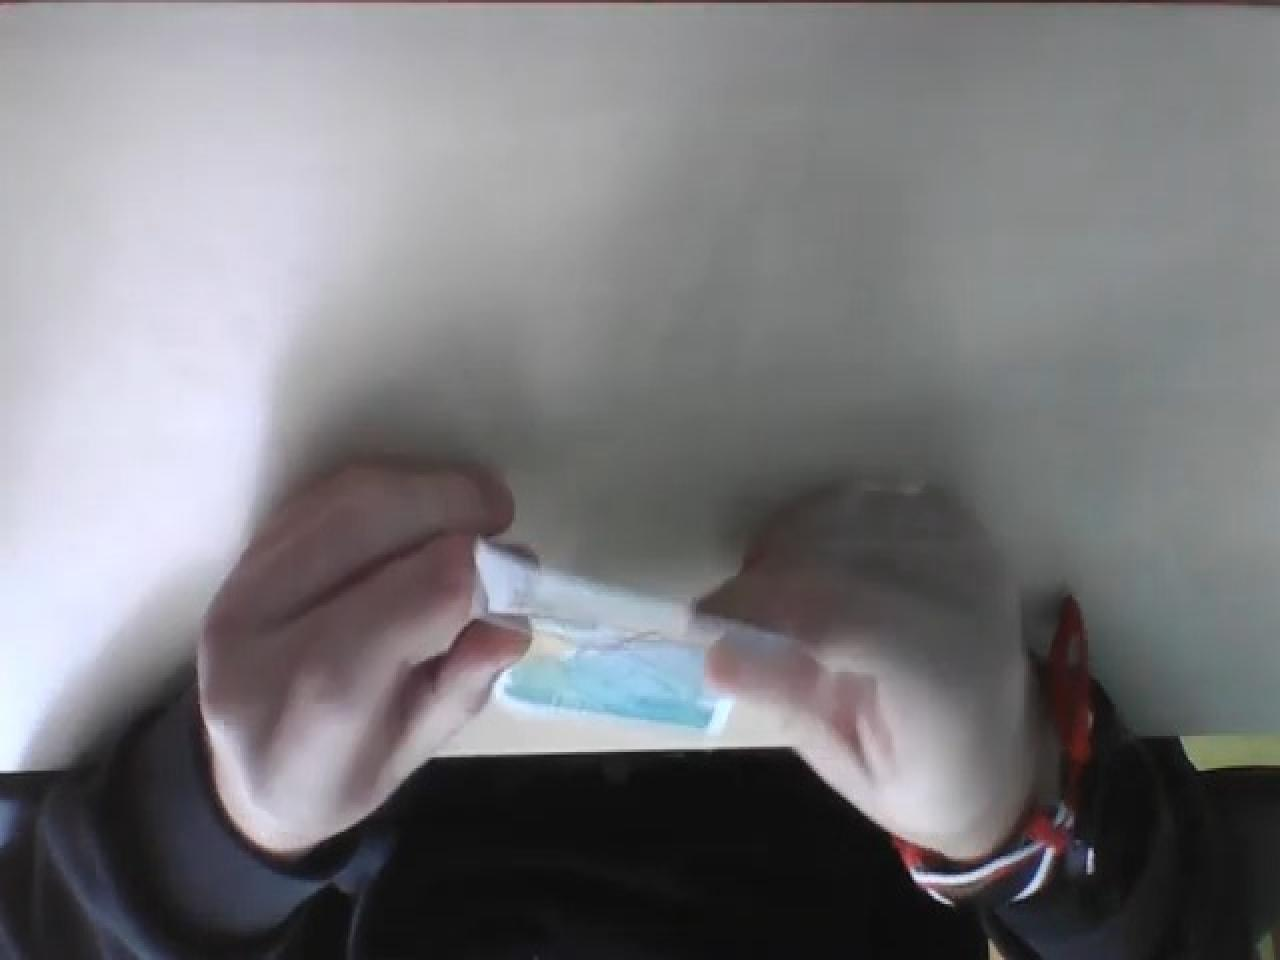100leva: (2, 453, 1274, 960), (462, 533, 748, 741)
